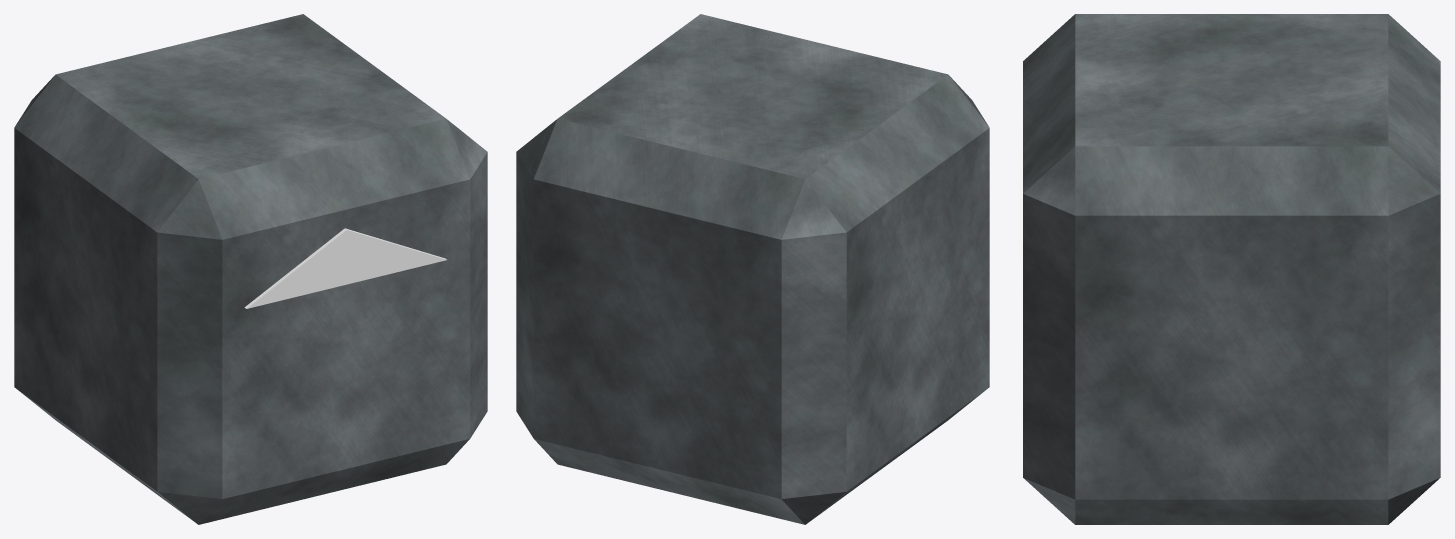
File: Block_Blue.fbx
The picture shows the model from 3 angles, left to right: view 1: azimuth 30°, elevation 25°; view 2: azimuth 150°, elevation 25°; view 3: azimuth 270°, elevation 25°; orthographic projection. The views are drawn at different scales.
Parts seen in each view (by area): view 1: mergedBlocks; view 2: mergedBlocks; view 3: mergedBlocks.
Part boxes in pixels (<box>): mergedBlocks: <box>14,14,487,524</box>; mergedBlocks: <box>516,14,989,524</box>; mergedBlocks: <box>1018,14,1440,524</box>.
Size of the model in its own units: 0.9 by 0.9 by 0.91.
Materials: 2 (1 with a texture image).
